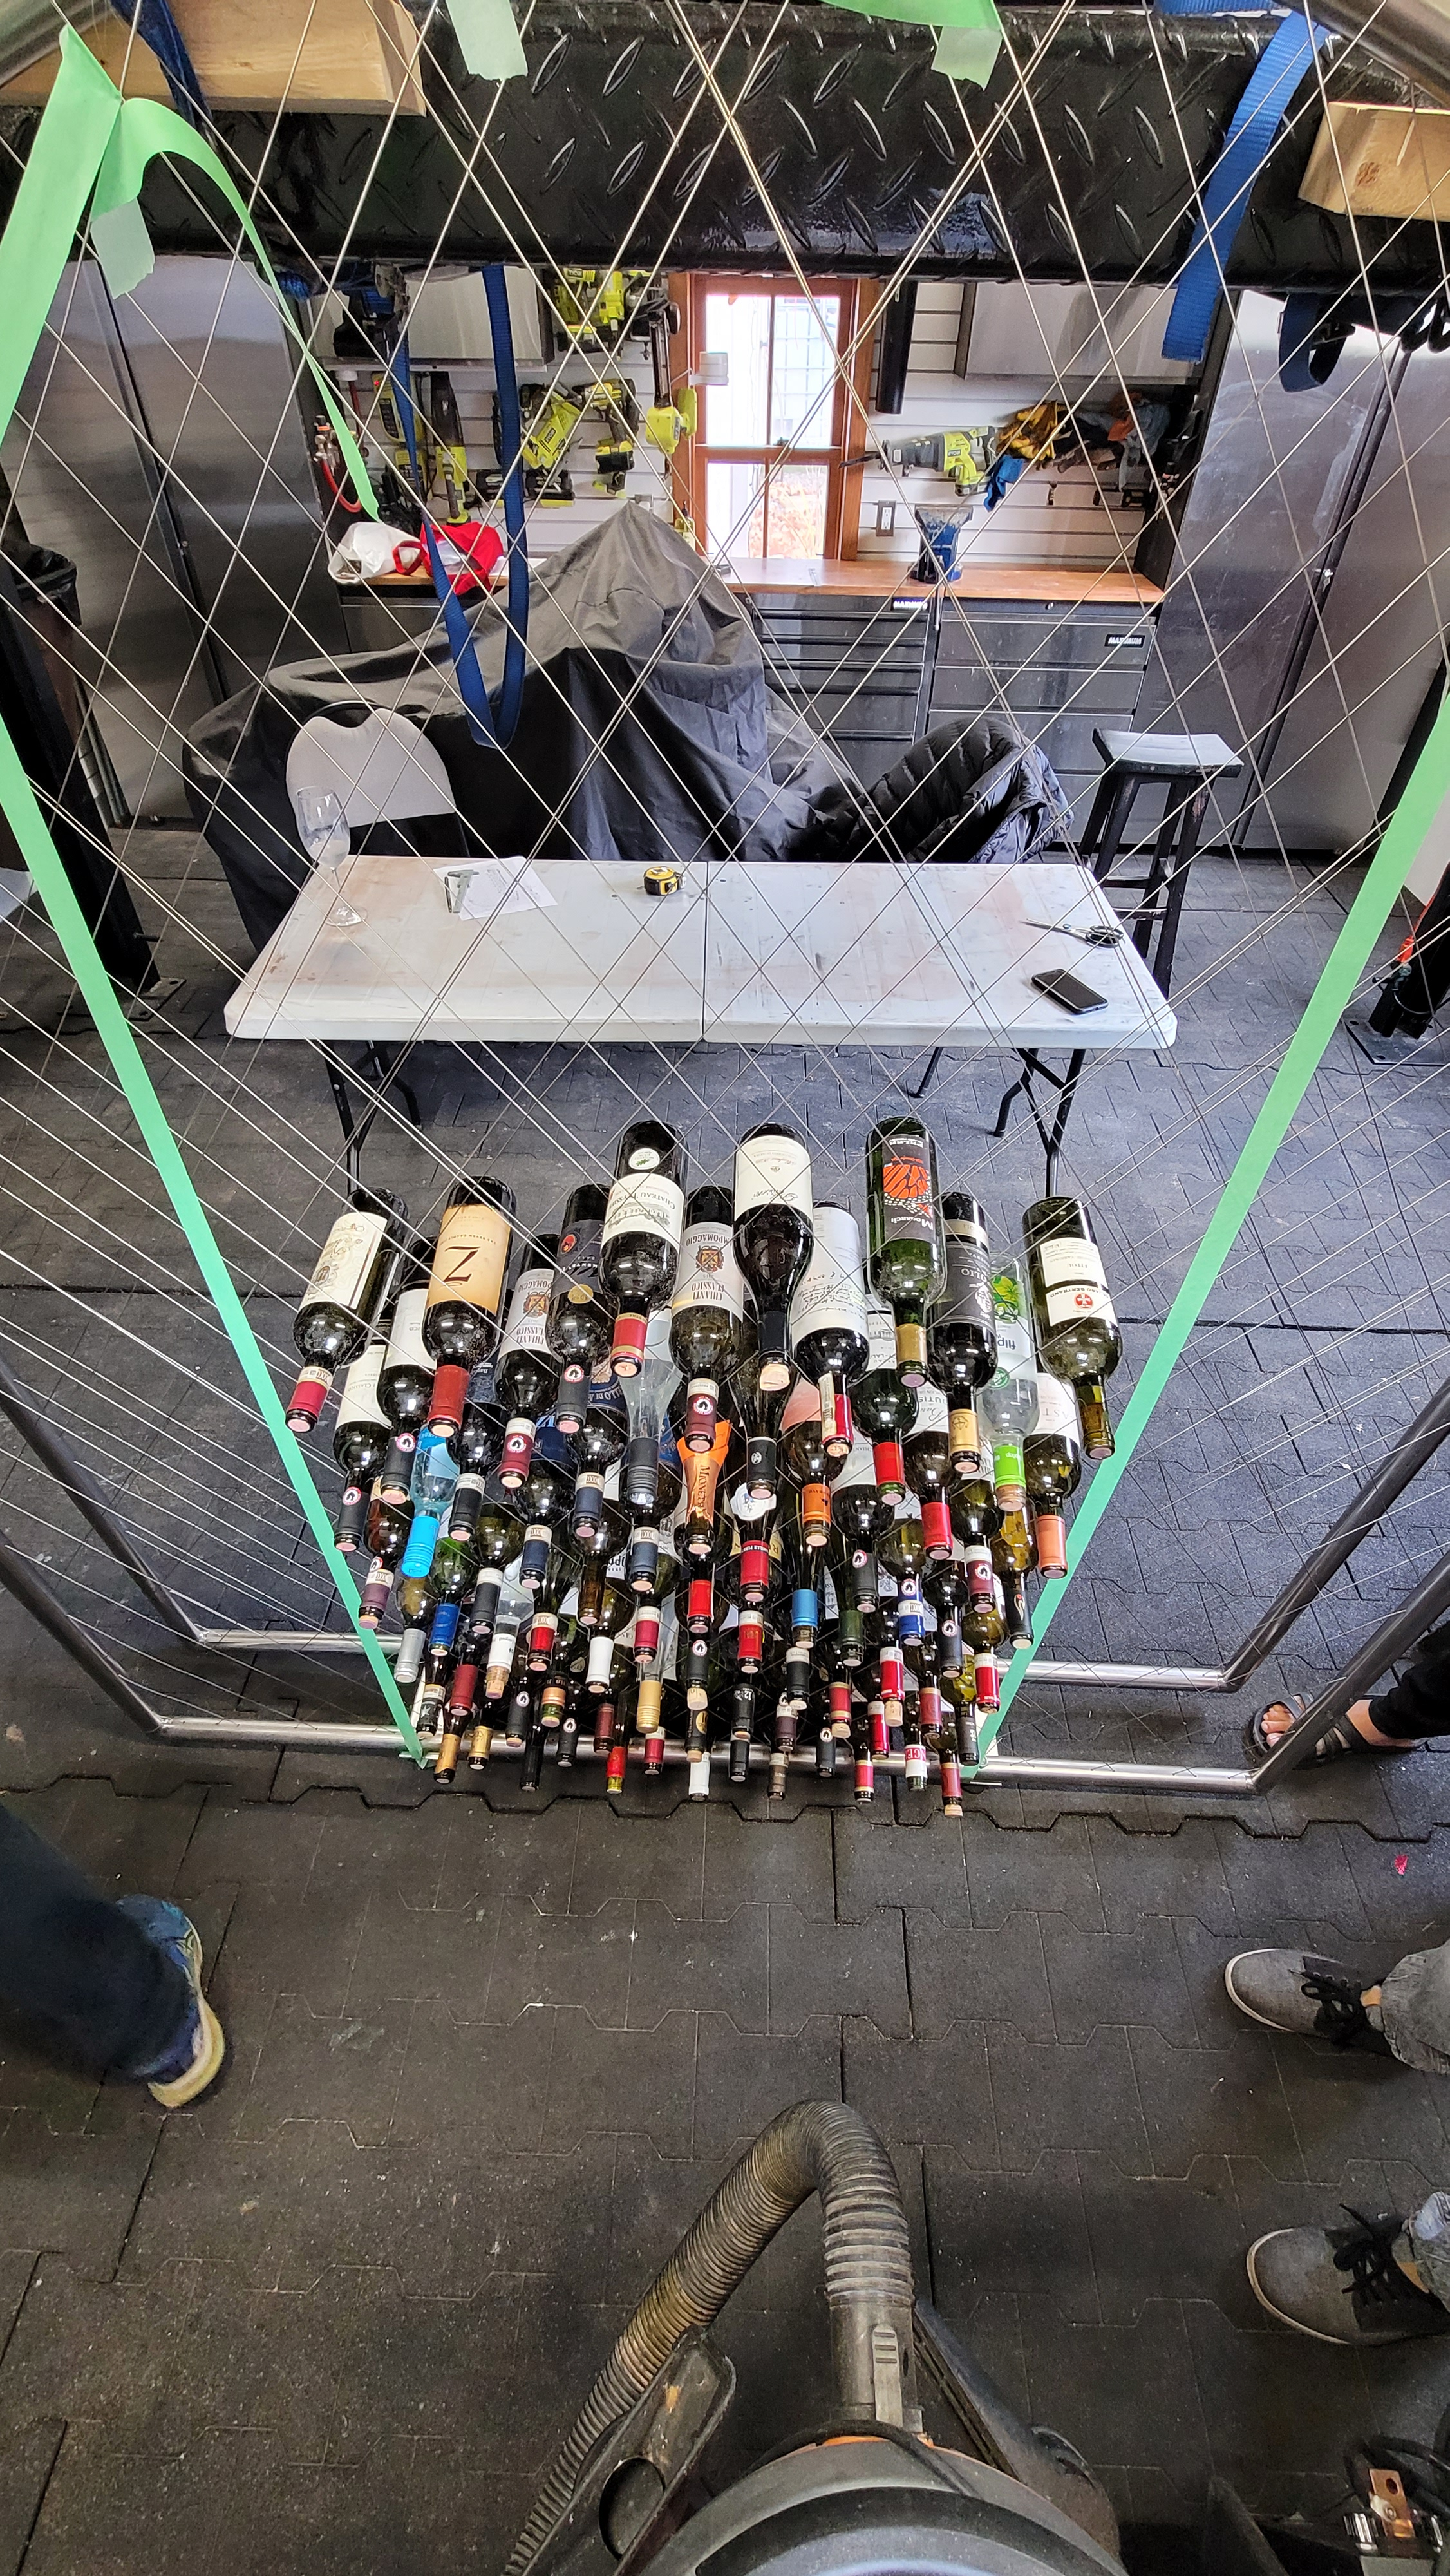bottle: (730, 1329, 817, 1407), (587, 1336, 668, 1407), (670, 1398, 736, 1472), (410, 1399, 479, 1463), (534, 1384, 599, 1447), (879, 1336, 941, 1401), (1024, 1532, 1086, 1594), (732, 1456, 792, 1520), (364, 1458, 424, 1518), (985, 1467, 1040, 1532), (953, 1557, 1008, 1622), (269, 1387, 327, 1447), (808, 1405, 863, 1468), (935, 1428, 994, 1486), (610, 1461, 668, 1520), (723, 1560, 780, 1621), (997, 1601, 1052, 1663), (347, 1582, 400, 1645), (865, 1461, 918, 1525), (790, 1497, 842, 1562), (1072, 1414, 1130, 1470), (431, 1497, 490, 1552), (668, 1661, 720, 1723), (389, 1534, 446, 1589), (490, 1444, 541, 1504), (559, 1488, 608, 1550), (670, 1516, 727, 1569), (615, 1552, 668, 1606), (780, 1603, 828, 1663), (508, 1550, 561, 1603), (723, 1633, 776, 1686), (840, 1568, 888, 1626), (575, 1649, 622, 1707), (918, 1513, 962, 1575), (674, 1589, 721, 1645), (384, 1637, 430, 1695), (888, 1606, 935, 1661), (324, 1506, 370, 1562), (624, 1695, 674, 1746), (868, 1686, 918, 1737), (417, 1615, 463, 1670), (928, 1637, 974, 1691), (964, 1674, 1011, 1725), (619, 1622, 667, 1674), (462, 1591, 502, 1649), (675, 1767, 721, 1819), (829, 1638, 875, 1690), (932, 1785, 978, 1835), (518, 1629, 562, 1681), (474, 1660, 515, 1713), (460, 1730, 499, 1785), (421, 1746, 463, 1796), (495, 1706, 534, 1759), (525, 1688, 568, 1734), (566, 1589, 607, 1637), (511, 1759, 550, 1806), (675, 1727, 714, 1775), (405, 1702, 444, 1748), (775, 1688, 820, 1727), (442, 1681, 479, 1729), (594, 1764, 633, 1808), (757, 1771, 796, 1815), (584, 1720, 621, 1766), (720, 1757, 760, 1798), (861, 1732, 898, 1776), (635, 1750, 674, 1790), (820, 1709, 859, 1750), (545, 1743, 585, 1780), (951, 1739, 988, 1776), (898, 1767, 937, 1803), (767, 1727, 803, 1762), (810, 1755, 843, 1792), (725, 1720, 759, 1755), (912, 1716, 950, 1746), (851, 1782, 882, 1815)
